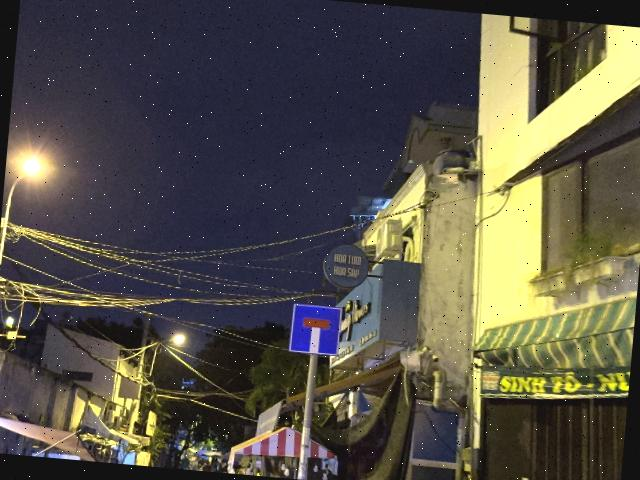duong-cut: (290, 303, 342, 356)
